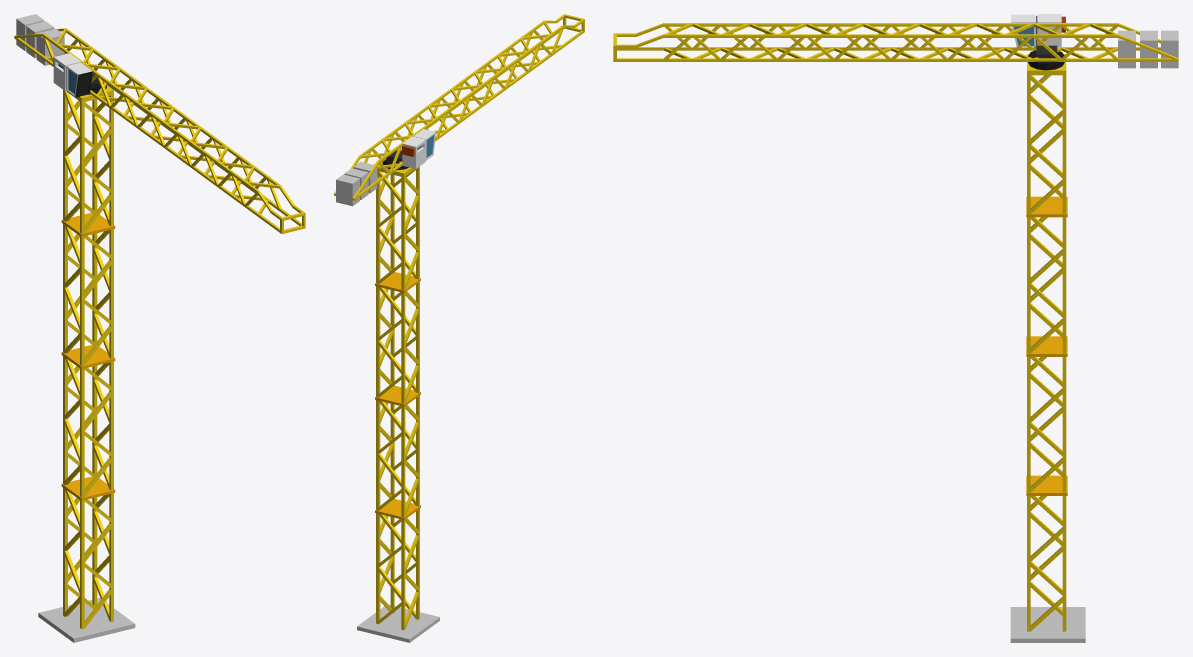
File: tower-crane-ground.glb
3 renders of one model, left to right at view 1: azimuth 30°, elevation 25°; view 2: azimuth 150°, elevation 25°; view 3: azimuth 270°, elevation 25°, orthographic. The views are drawn at different scales.
Visible parts, largest first — view 1: Crane Ground unrotated; view 2: Crane Ground unrotated; view 3: Crane Ground unrotated.
Part boxes in pixels (left/top/right/bottom): Crane Ground unrotated: left=14, top=14, right=305, bottom=642; Crane Ground unrotated: left=334, top=14, right=584, bottom=642; Crane Ground unrotated: left=613, top=14, right=1178, bottom=642.
Bounding box in the file's own units: 6.12 × 54.08 × 46.23.
Materials: 1 (1 with a texture image).
